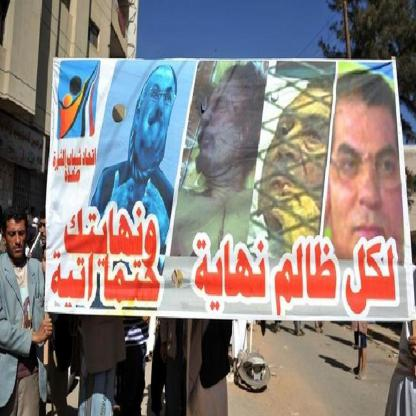face: (330, 111, 404, 261), (263, 95, 336, 226), (199, 86, 246, 171), (139, 78, 176, 150), (7, 223, 27, 258), (41, 220, 52, 244)
